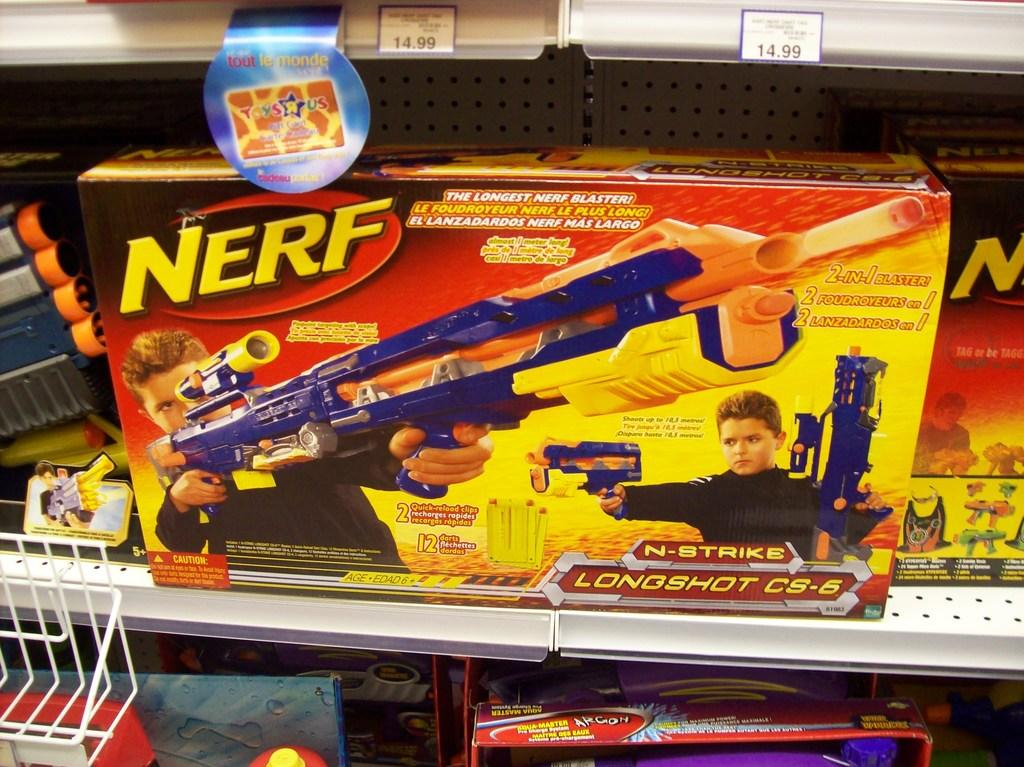Rifle: (147, 197, 925, 517)
